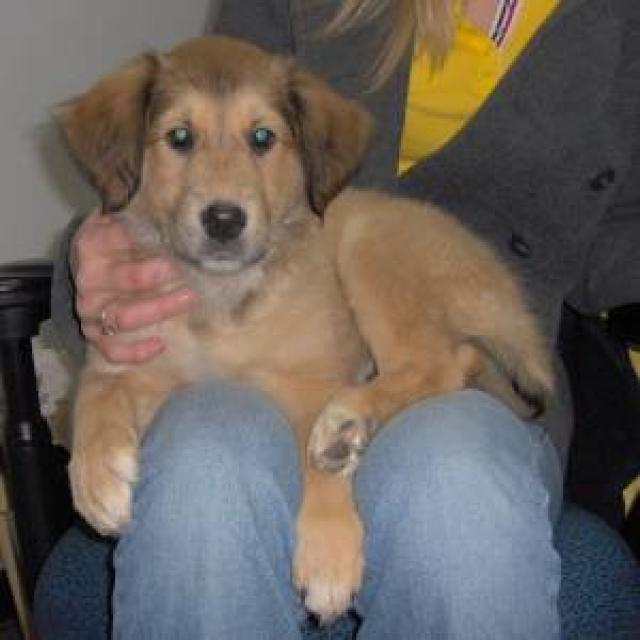dog: (47, 32, 559, 624)
